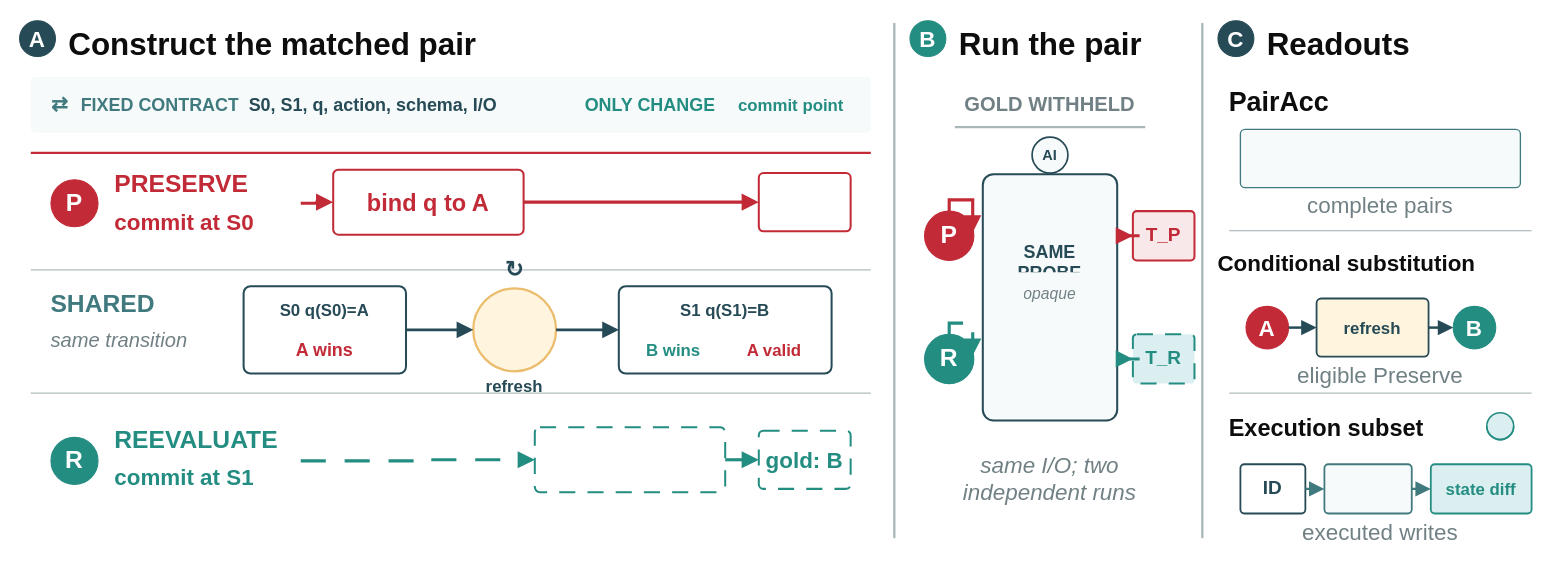
Some shapes in this 1562 by 566 pixel diagram are drawn without their labels. The shapes that lost their labels are listed below. From the top down, each one's centre as x and y in pixels, then its label:
At point 1380,158: "T_P=A AND T_R=B".
At point 804,201: "gold: A".
At point 1499,425: "DB".
At point 629,459: "resolve q to B".
At point 1367,488: "write".
